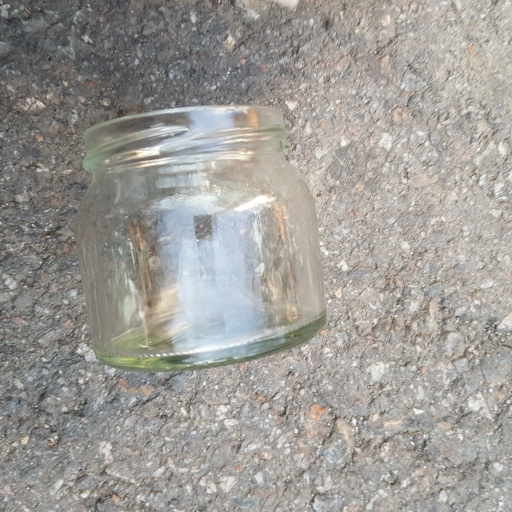Glass_5: (72, 101, 326, 371)
